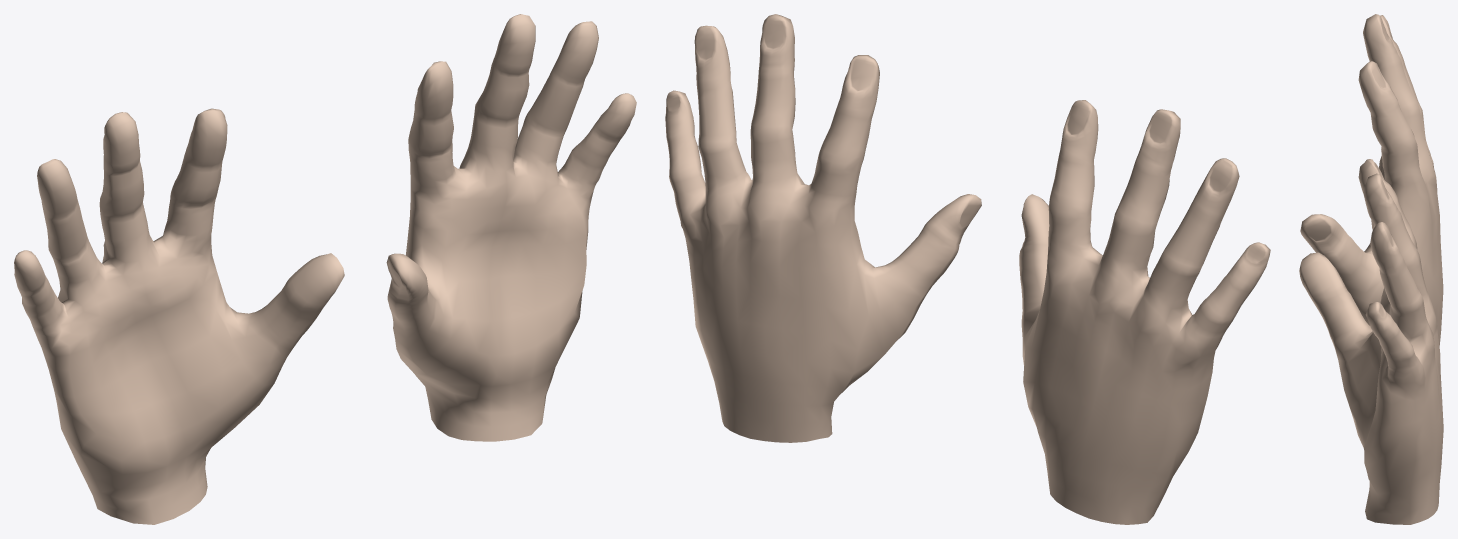
Rendered from hands.fbx.
3 renders of one model, left to right at view 1: azimuth 30°, elevation 25°; view 2: azimuth 150°, elevation 25°; view 3: azimuth 270°, elevation 25°, orthographic. The views are drawn at different scales.
Visible parts, largest first — view 1: womanMesh; view 2: womanMesh; view 3: womanMesh.
Part boxes in pixels (<box>): womanMesh: <box>14,14,636,524</box>; womanMesh: <box>665,14,1270,524</box>; womanMesh: <box>1299,14,1443,524</box>.
Size of the model in its own units: 267 by 171 by 65.56.
